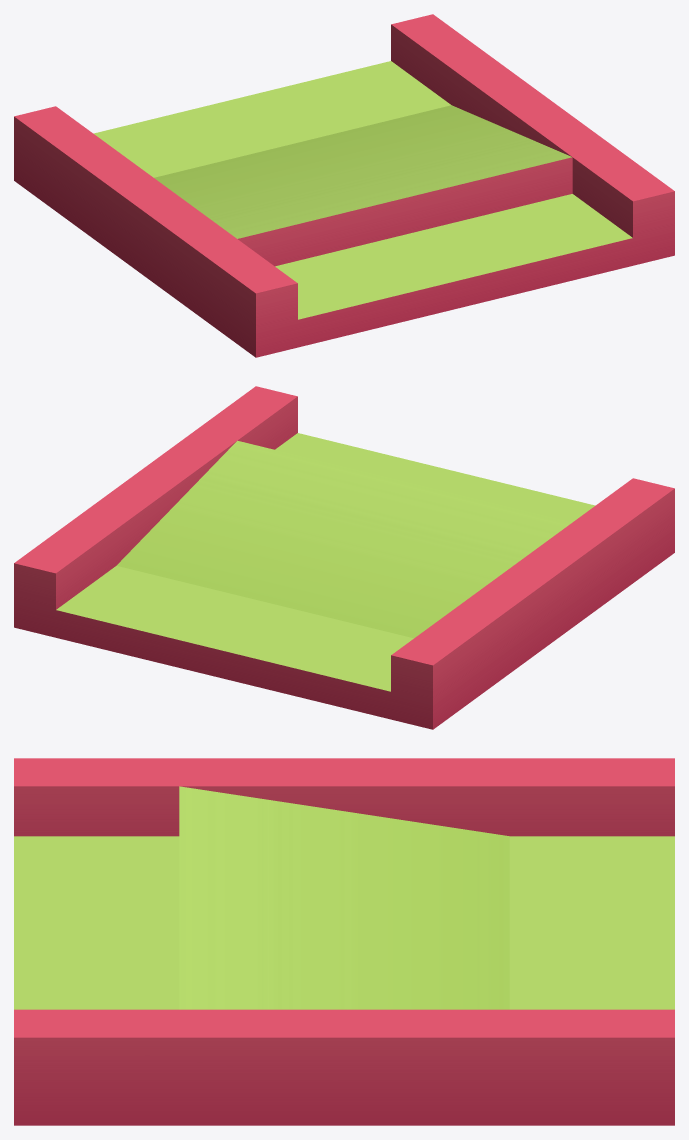
Rendered from ramp-sharp.fbx.
The picture shows the model from 3 angles, top to bottom: view 1: azimuth 30°, elevation 25°; view 2: azimuth 150°, elevation 25°; view 3: azimuth 270°, elevation 25°; orthographic projection. The views are drawn at different scales.
Parts seen in each view (by area): view 1: ramp_sharp; view 2: ramp_sharp; view 3: ramp_sharp.
Part boxes in pixels (bbox=[...]): ramp_sharp: bbox=[14, 14, 674, 357]; ramp_sharp: bbox=[14, 386, 674, 729]; ramp_sharp: bbox=[14, 758, 674, 1125].
Bounding box in the file's own units: 99.99 × 14.67 × 99.99.
